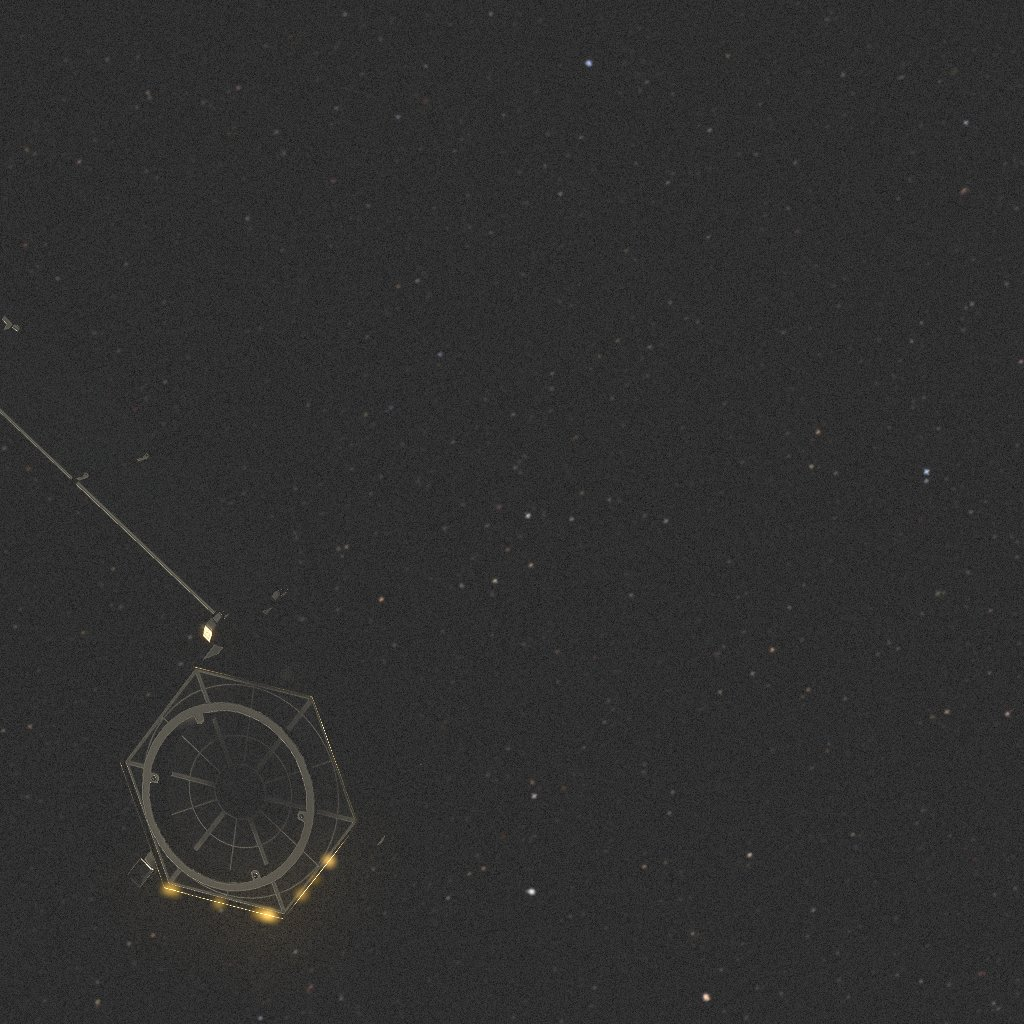earth_observation_sat_1: (0, 296, 431, 920)
